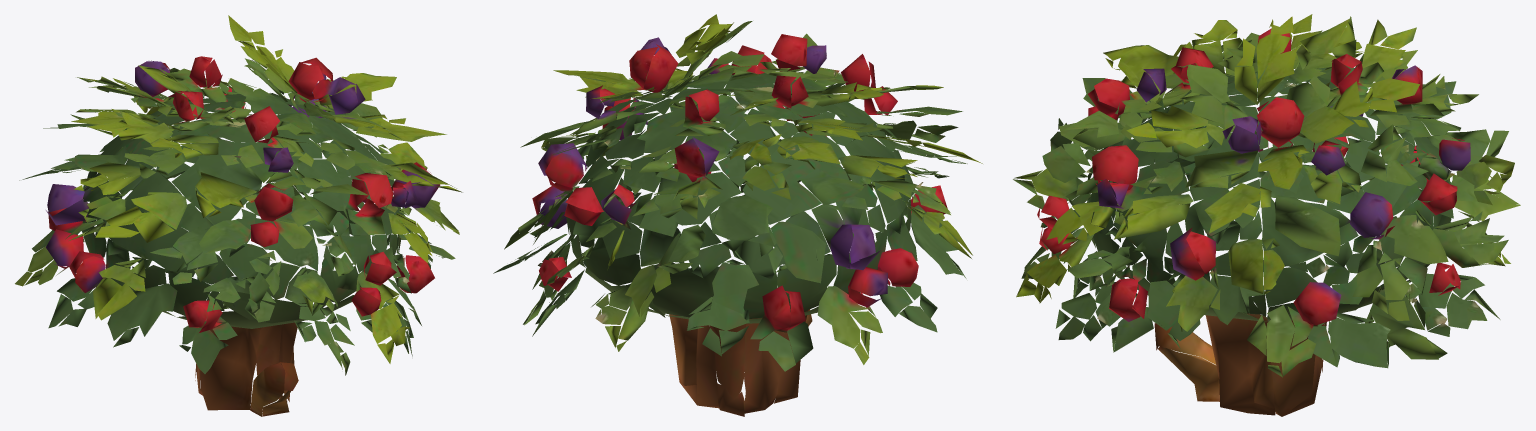
File: arbusto.glb
The picture shows the model from 3 angles, left to right: view 1: azimuth 30°, elevation 25°; view 2: azimuth 150°, elevation 25°; view 3: azimuth 270°, elevation 25°; orthographic projection. The views are drawn at different scales.
Visible parts, largest first — view 1: tripo_node_83d75a9e-9e7e-43e9-8b3e-ca657cd6f0d6; view 2: tripo_node_83d75a9e-9e7e-43e9-8b3e-ca657cd6f0d6; view 3: tripo_node_83d75a9e-9e7e-43e9-8b3e-ca657cd6f0d6.
Boxes of the visible parts, x1,y1,x2,y2 form: tripo_node_83d75a9e-9e7e-43e9-8b3e-ca657cd6f0d6: (15,15,462,416); tripo_node_83d75a9e-9e7e-43e9-8b3e-ca657cd6f0d6: (493,14,982,416); tripo_node_83d75a9e-9e7e-43e9-8b3e-ca657cd6f0d6: (1013,14,1520,416).
Size of the model in its own units: 0.9269 by 0.8174 by 0.9961.
Materials: 1 (1 with a texture image).
